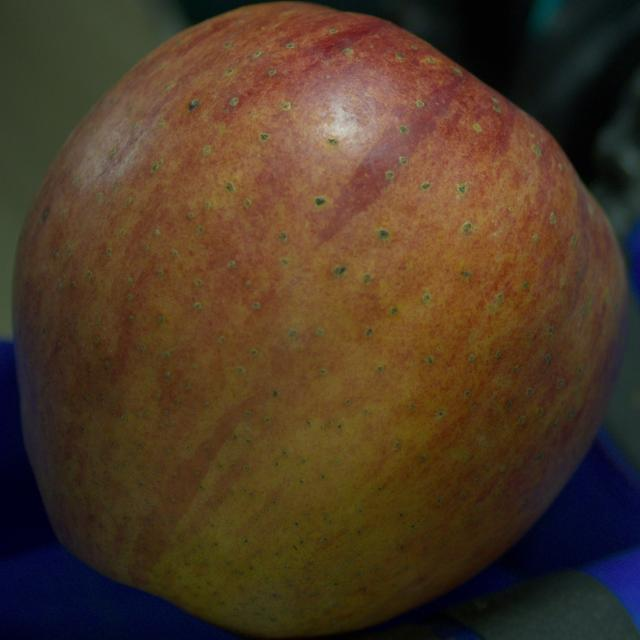apple: (13, 2, 627, 637)
pest: (189, 99, 198, 110)
